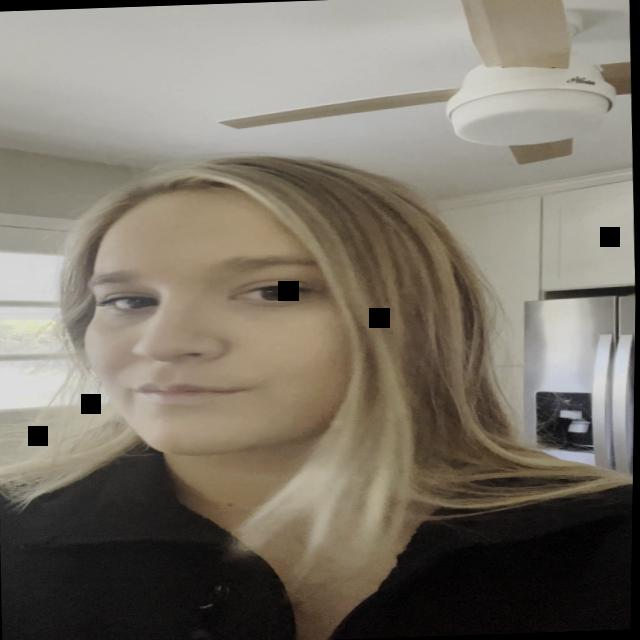NO-Mask: (73, 180, 383, 462)
